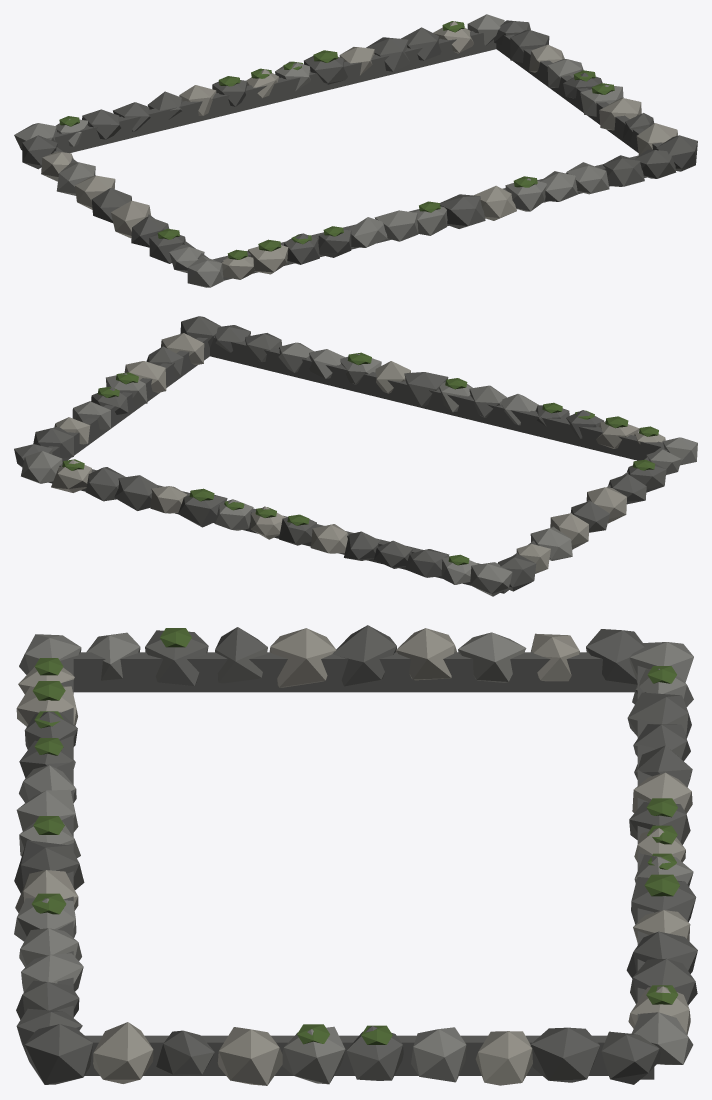
File: PondRim.glb
3 views of the same model, one above another, from view 1: azimuth 30°, elevation 25°; view 2: azimuth 150°, elevation 25°; view 3: azimuth 270°, elevation 25° (orthographic). The views are drawn at different scales.
Parts seen in each view (by area): view 1: PondRim; view 2: PondRim; view 3: PondRim.
Boxes of the visible parts, x1,y1,x2,y2 form: PondRim: (14, 14, 697, 287); PondRim: (14, 316, 697, 596); PondRim: (14, 625, 697, 1085).
Size of the model in its own units: 25 by 1.81 by 16.73.
